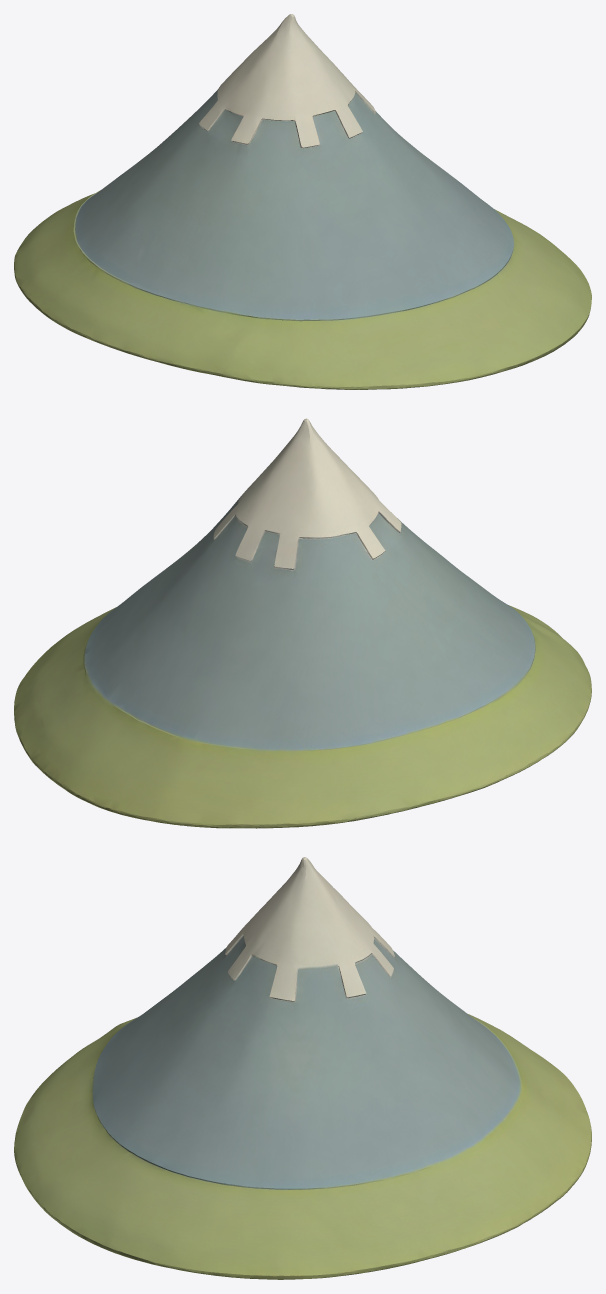
The picture shows the model from 3 angles, top to bottom: view 1: azimuth 30°, elevation 25°; view 2: azimuth 150°, elevation 25°; view 3: azimuth 270°, elevation 25°; orthographic projection. The views are drawn at different scales.
Visible parts, largest first — view 1: model; view 2: model; view 3: model.
Boxes of the visible parts, <box> form: model: <box>14,14,591,389</box>; model: <box>14,418,591,828</box>; model: <box>14,857,591,1279</box>.
Size of the model in its own units: 1.9 by 1.07 by 1.88.
1 material, 1 textured.
